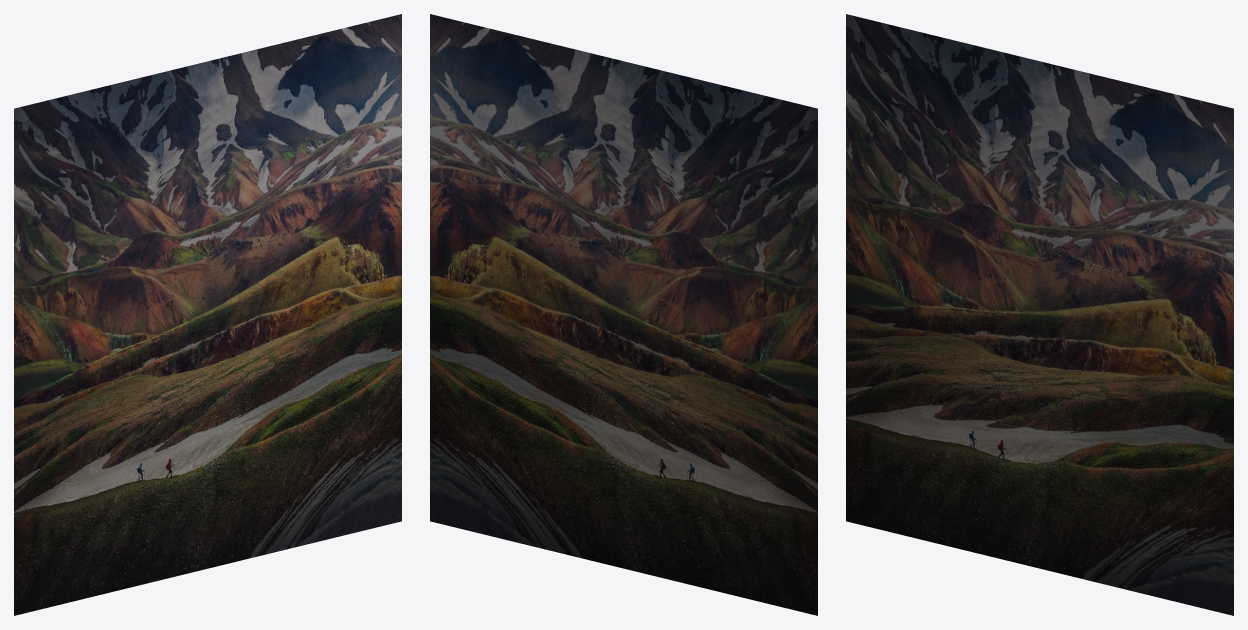
Rendered from Iceland.gltf.
The picture shows the model from 3 angles, left to right: view 1: azimuth 30°, elevation 25°; view 2: azimuth 150°, elevation 25°; view 3: azimuth 330°, elevation 25°; orthographic projection.
Visible parts, largest first — view 1: node-0; view 2: node-0; view 3: node-0.
Boxes of the visible parts, x1,y1,x2,y2 form: node-0: [14, 14, 401, 615]; node-0: [430, 14, 817, 615]; node-0: [846, 14, 1233, 615].
Bounding box in the file's own units: 381 × 476 × 0.
1 material, 1 textured.
